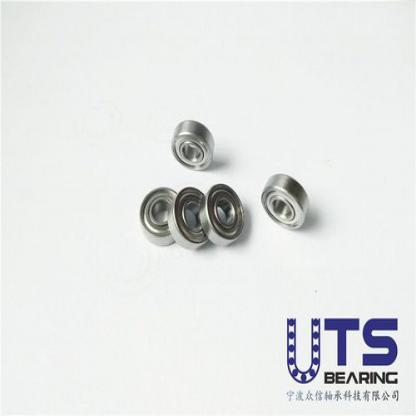FOD: (198, 181, 249, 249), (260, 172, 311, 232), (135, 184, 179, 250), (168, 186, 211, 253), (170, 120, 214, 173)
